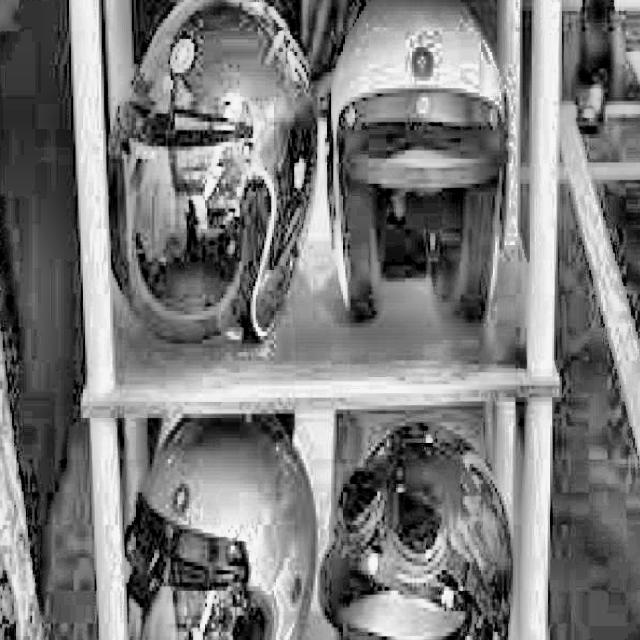Helmet: (108, 0, 316, 349), (328, 0, 511, 339), (312, 420, 517, 640), (125, 412, 314, 640)
